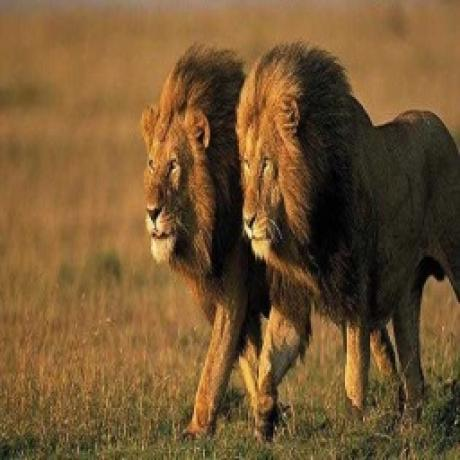Lion: (238, 36, 460, 431), (144, 42, 262, 434)
